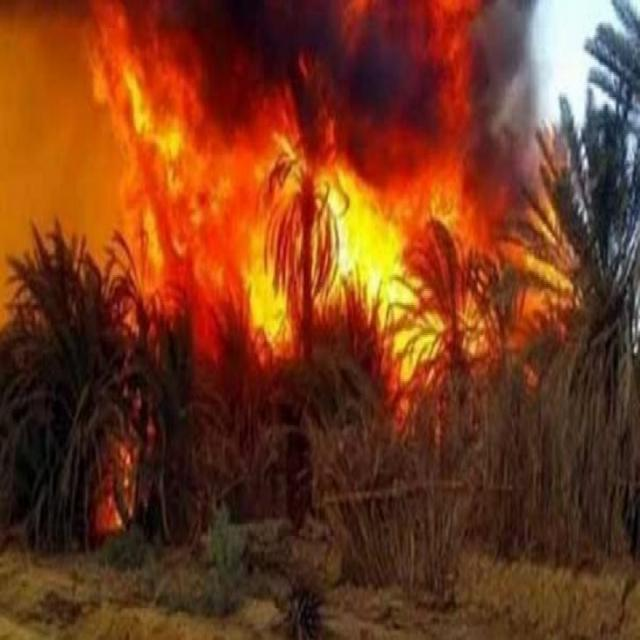fire: (97, 10, 596, 422)
